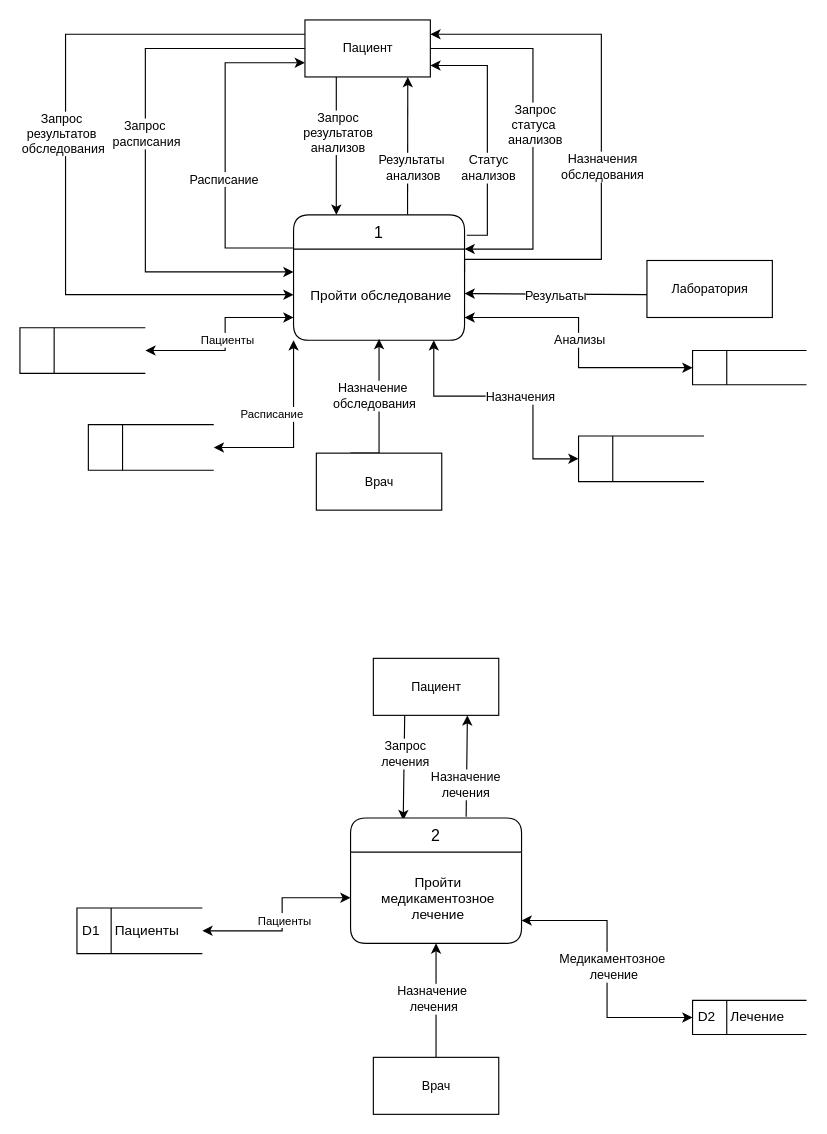
Image size: 827x1134. Some labels were removed from this diagram. The centre of each missing label's shape, as x and y in pixels:
D1 Анализы: the point at 749,367
D2 Назначения: the point at 640,458
D3 Пациенты: the point at 82,350
D4 Расписание: the point at 150,447
